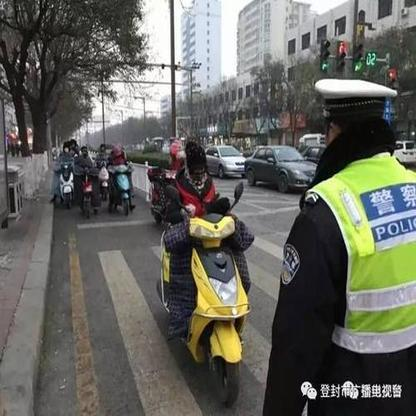target: (157, 140, 258, 407)
